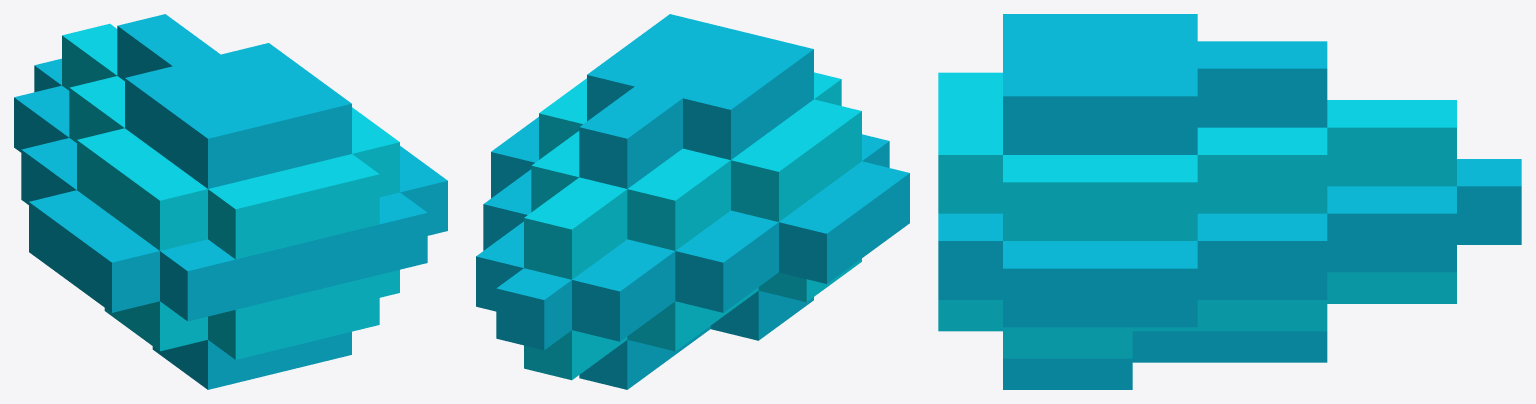
File: icebolt.fbx
3 views of the same model, side by side, from view 1: azimuth 30°, elevation 25°; view 2: azimuth 150°, elevation 25°; view 3: azimuth 270°, elevation 25° (orthographic). The views are drawn at different scales.
Visible parts, largest first — view 1: IceBolt; view 2: IceBolt; view 3: IceBolt.
Boxes of the visible parts, x1,y1,x2,y2 form: IceBolt: [14, 14, 447, 389]; IceBolt: [476, 14, 909, 389]; IceBolt: [938, 14, 1521, 389].
Bounding box in the file's own units: 70 × 50 × 90.
